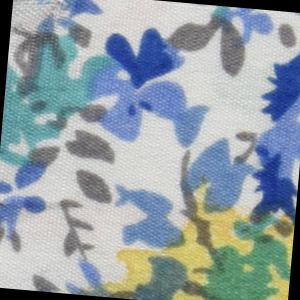Damage: (9, 1, 81, 53)
Oil Stain: (85, 161, 299, 300)
